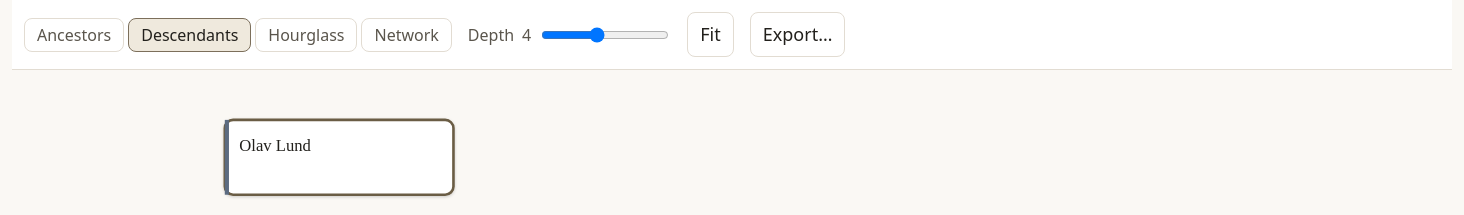
Scenario: Network is offered, re-fetches, re-frames, and disables the depth slider
Expected: the slider named "Generation depth" is enabled, [541,26,669,42]
// Click the Network button (it must exist as a fourth mode).
Click the button "Network": [407, 34] box [362,18,452,52]
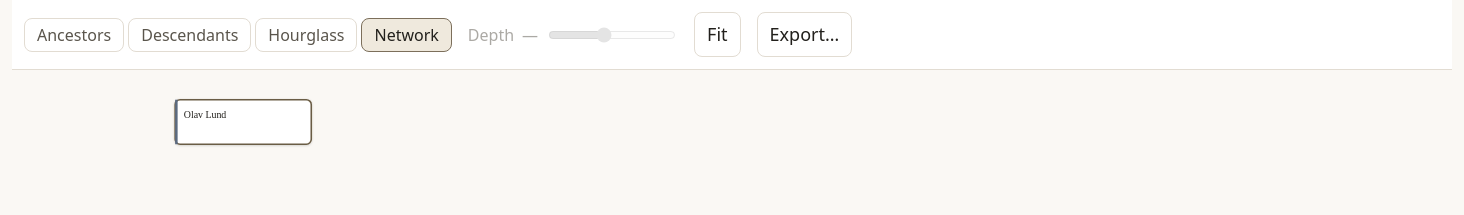
Now the slider named "Generation depth" is disabled, box [548,26,676,42]
